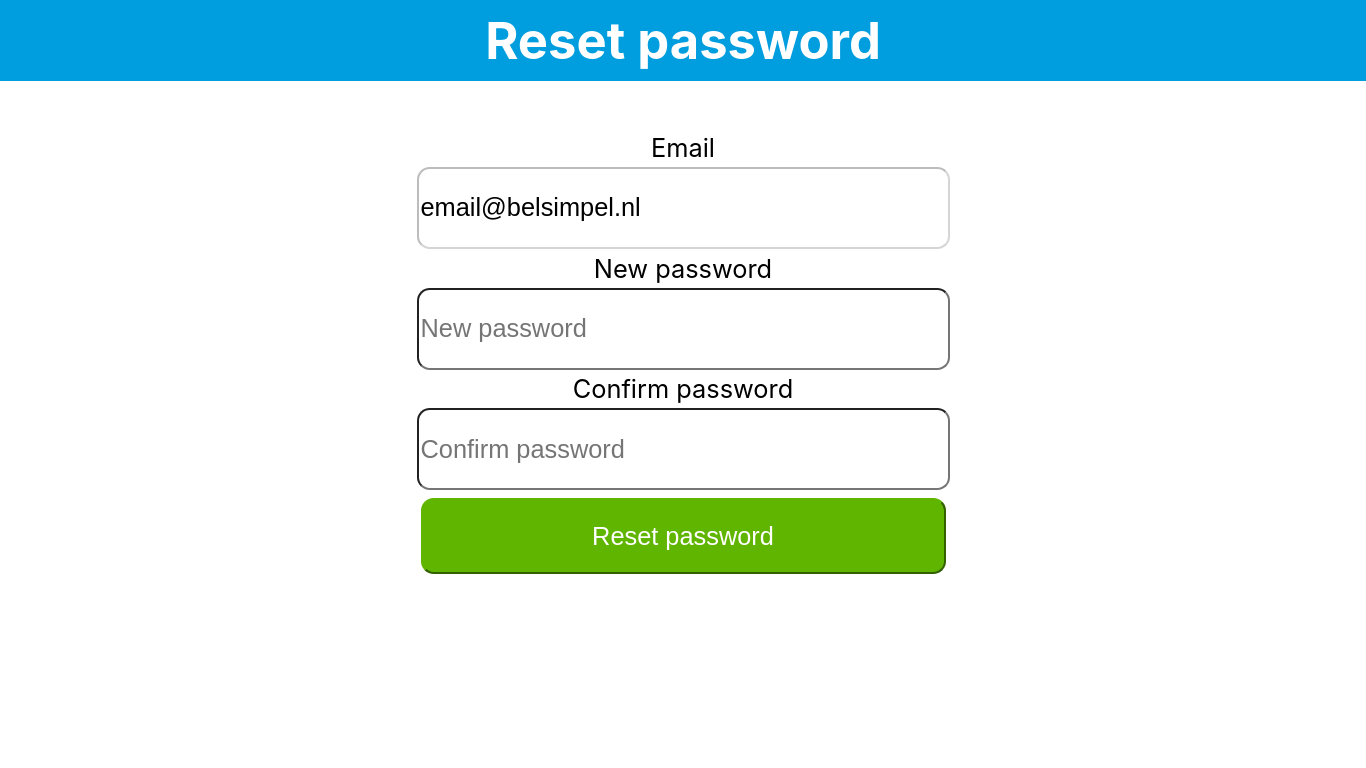
displays error message when resetting password fails
The image size is (1366, 768).
Type "password" into the password field with placeholder "New password" at [683, 329], box [416,288,950,370]
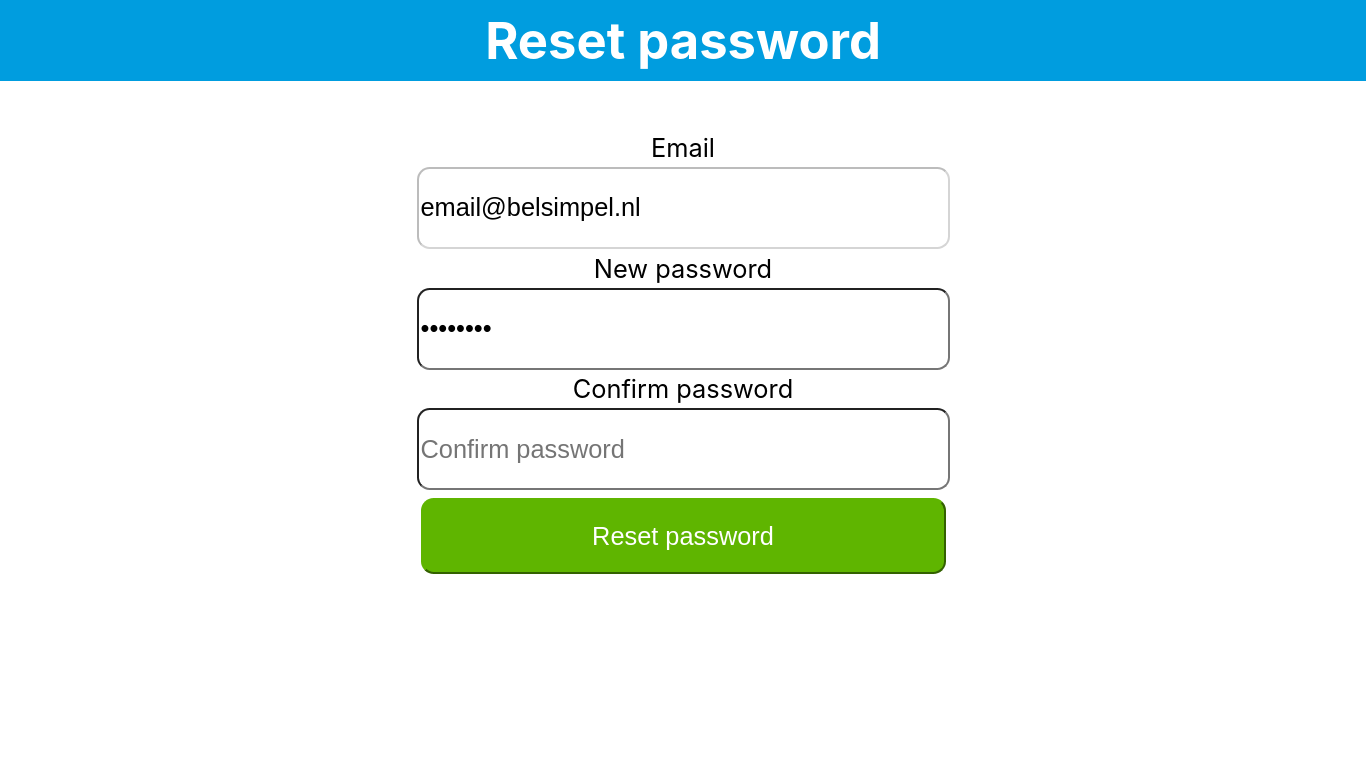
Type "password" into the password field with placeholder "Confirm password" at [683, 449], box [416,408,950,490]
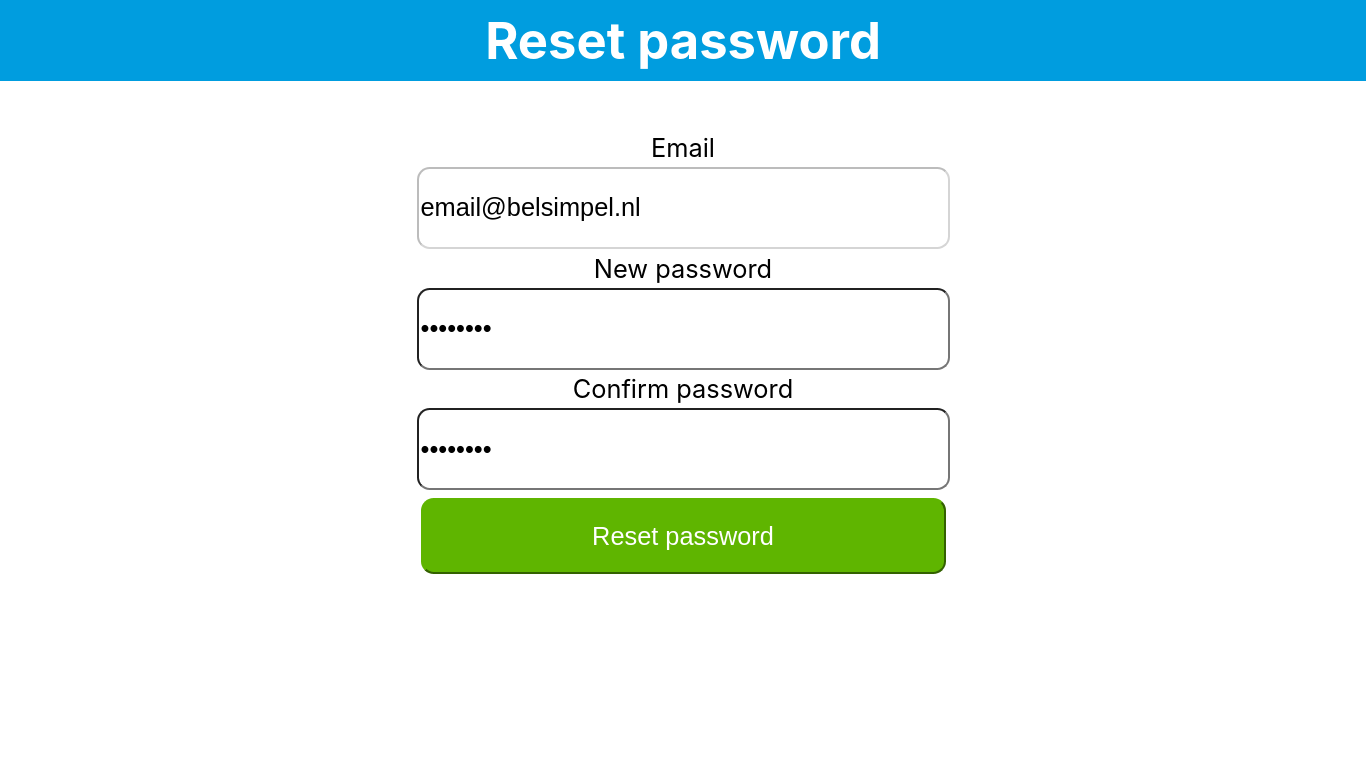
Click the button "Reset password" at [683, 536], box [420,498,946,574]
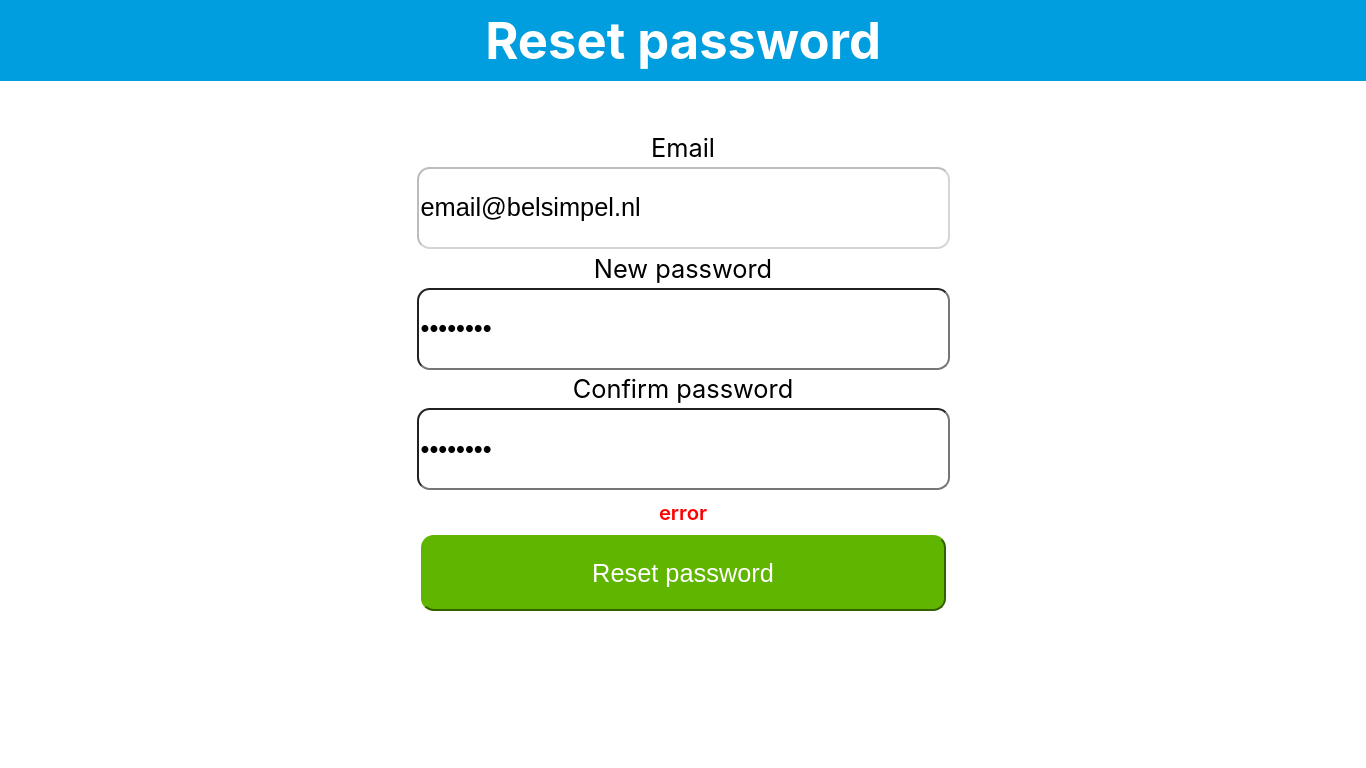
Check: the text "error" is shown, box [333,494,1033,531]
